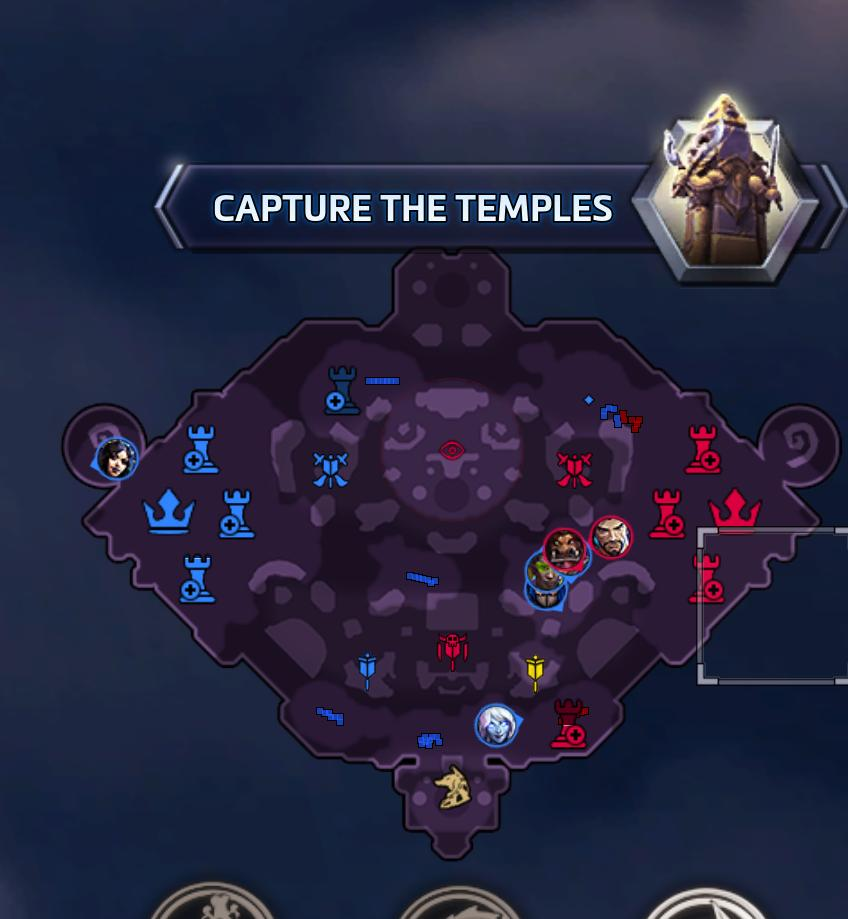blue nexus: (141, 484, 197, 535)
blue player: (523, 552, 567, 610), (92, 435, 139, 481), (474, 702, 521, 747)
blue tower: (217, 486, 256, 539), (177, 552, 216, 604), (181, 423, 220, 474), (324, 362, 361, 415)
red nexus: (707, 487, 762, 533)
red player: (542, 527, 588, 579), (588, 514, 632, 559)
red tower: (547, 692, 588, 753), (683, 422, 722, 475), (647, 487, 686, 539), (688, 549, 724, 604)
